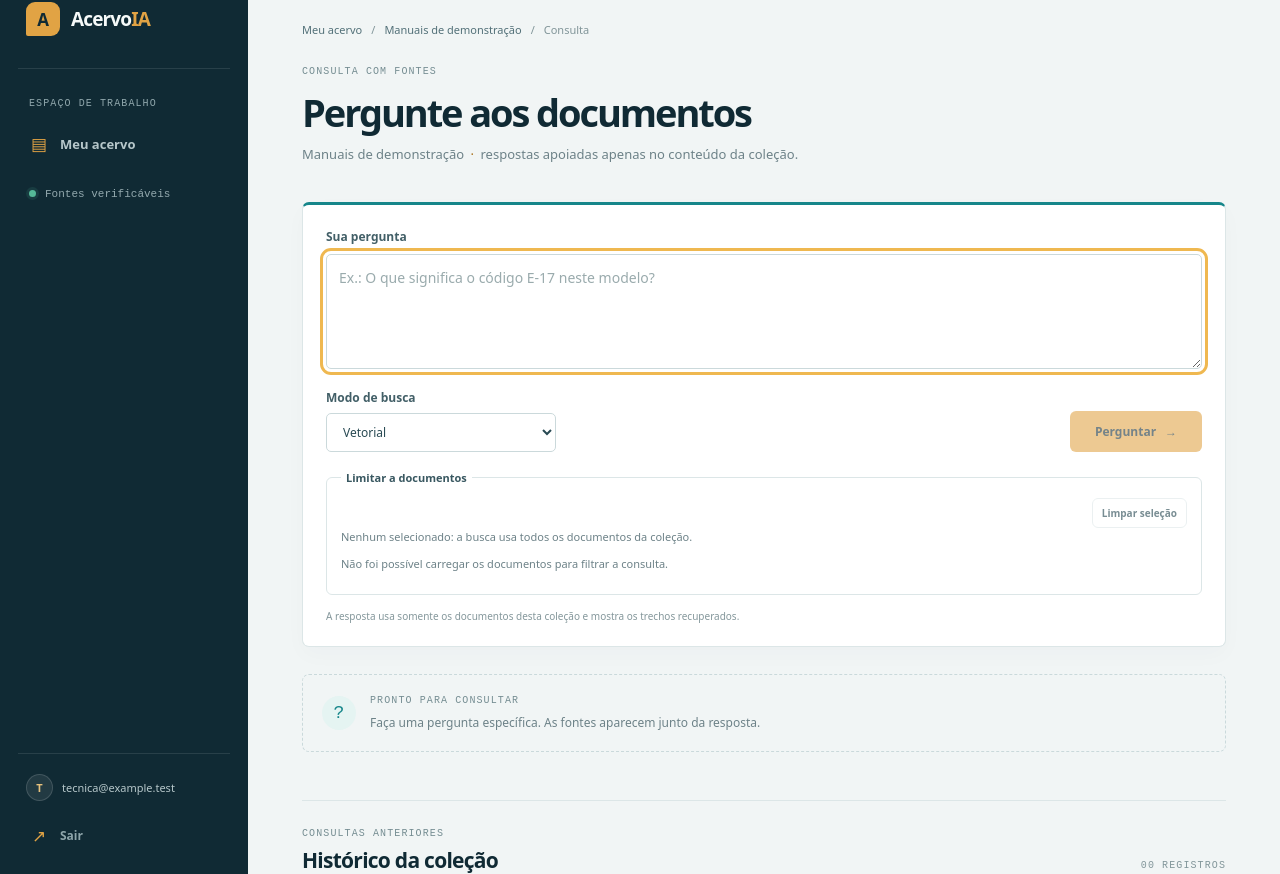
Test: AcervoIA web flows › shows a friendly message when a cited original file is missing
Type "Qual o procedimento?" into the text box labelled "Sua pergunta" at point(764, 312), box [326,254,1202,369]
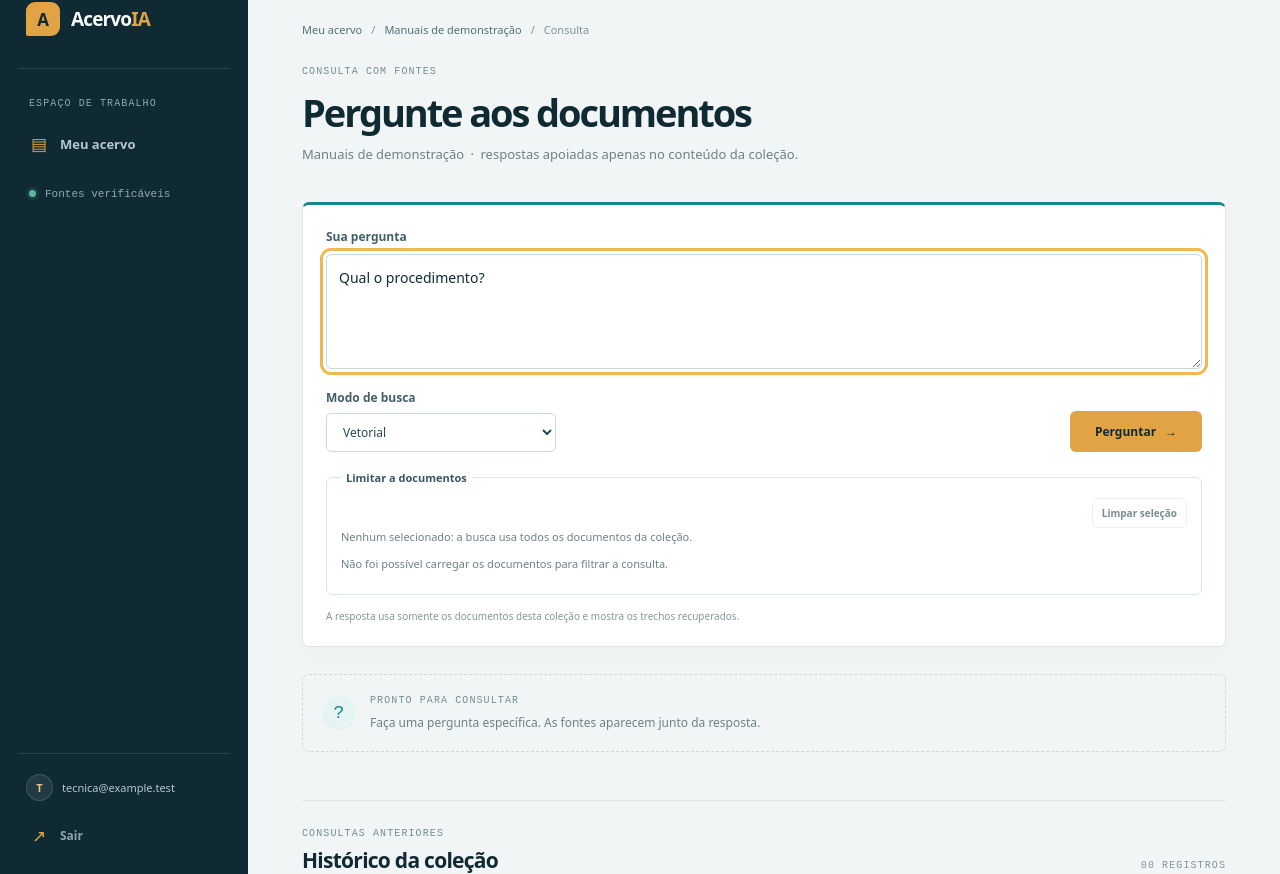
Click the button "Perguntar →" at point(1136, 432), box [1070,411,1202,452]
(page scrolled)
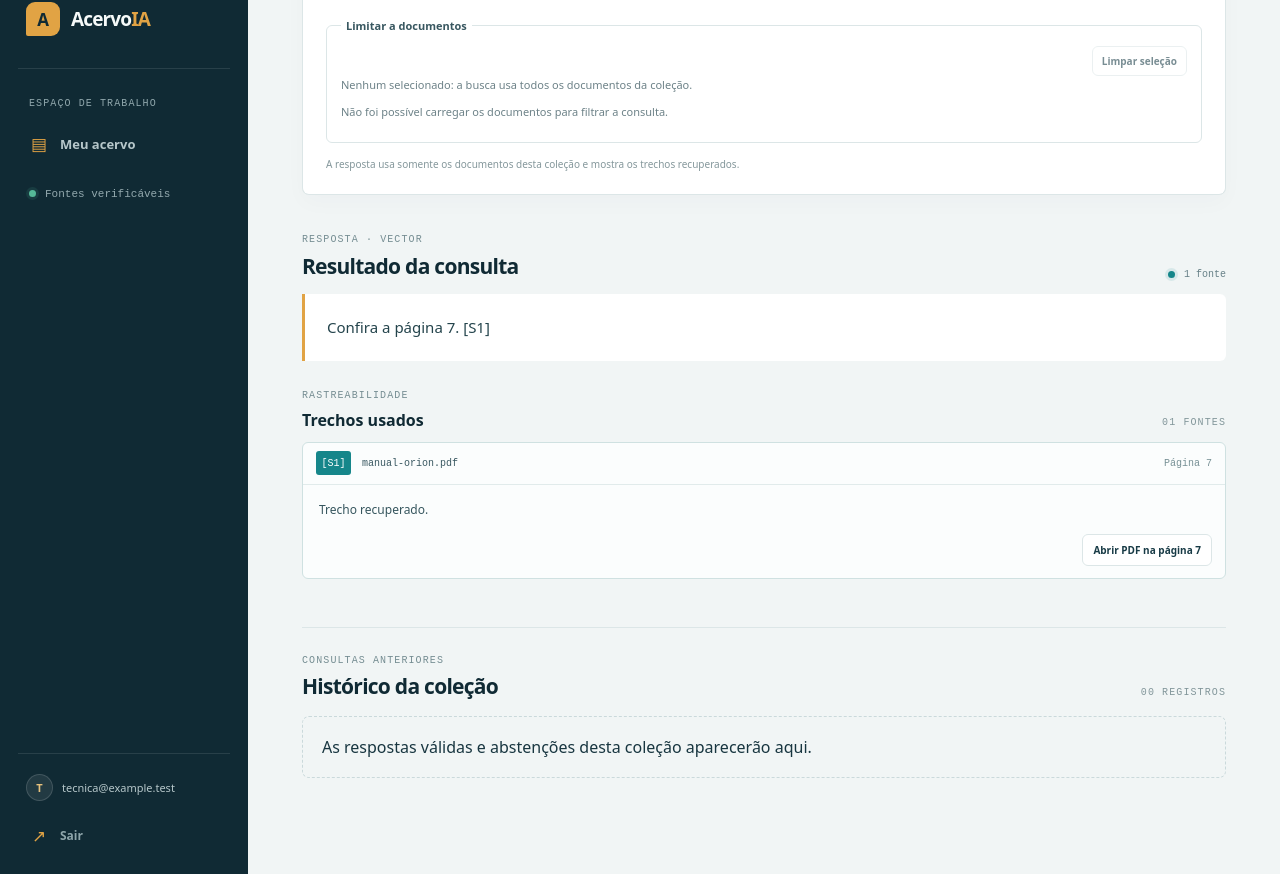
Click the button "Abrir PDF na página 7" at point(1147, 550), box [1082,534,1212,566]
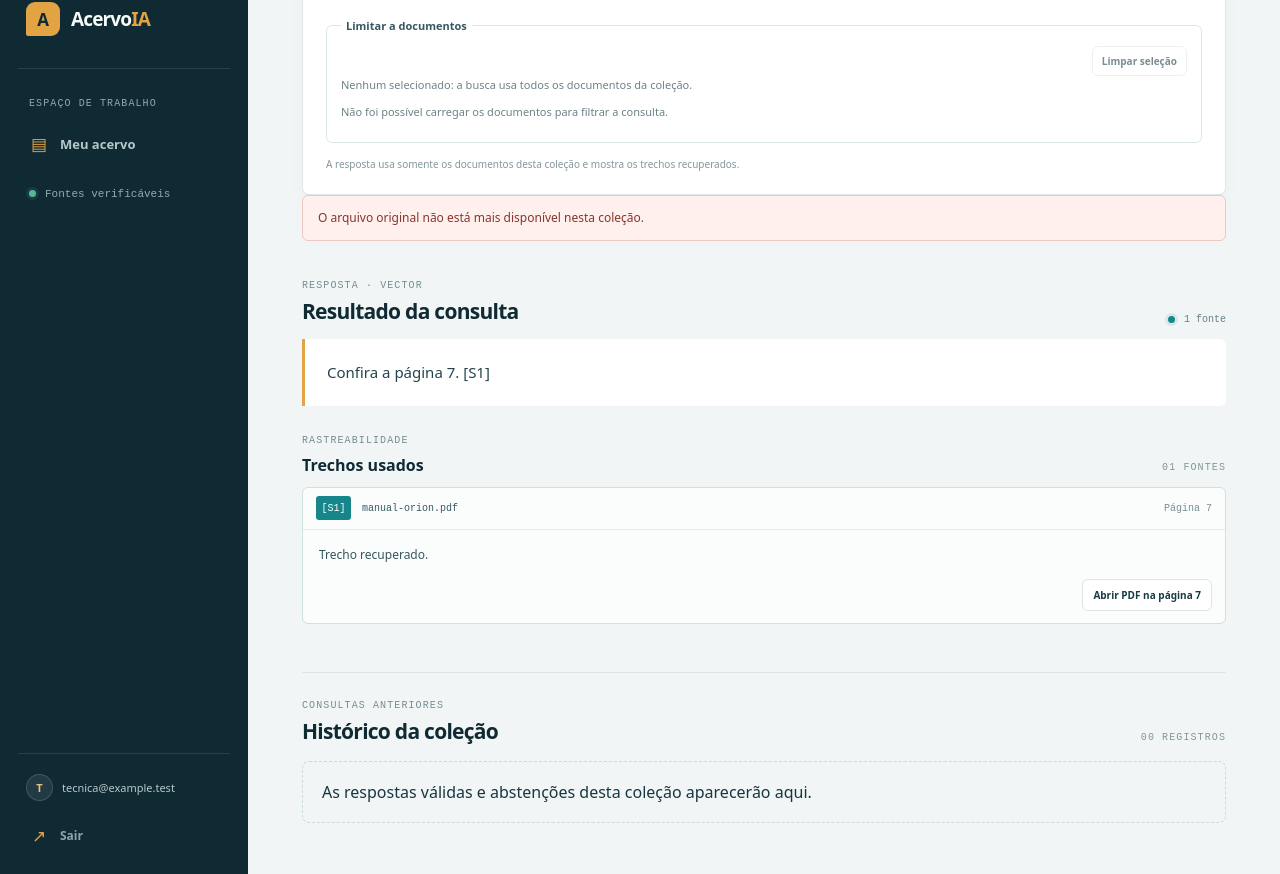
Result: the message "O arquivo original não está mais disponível nesta coleção." is shown at [302,195,1226,241]
